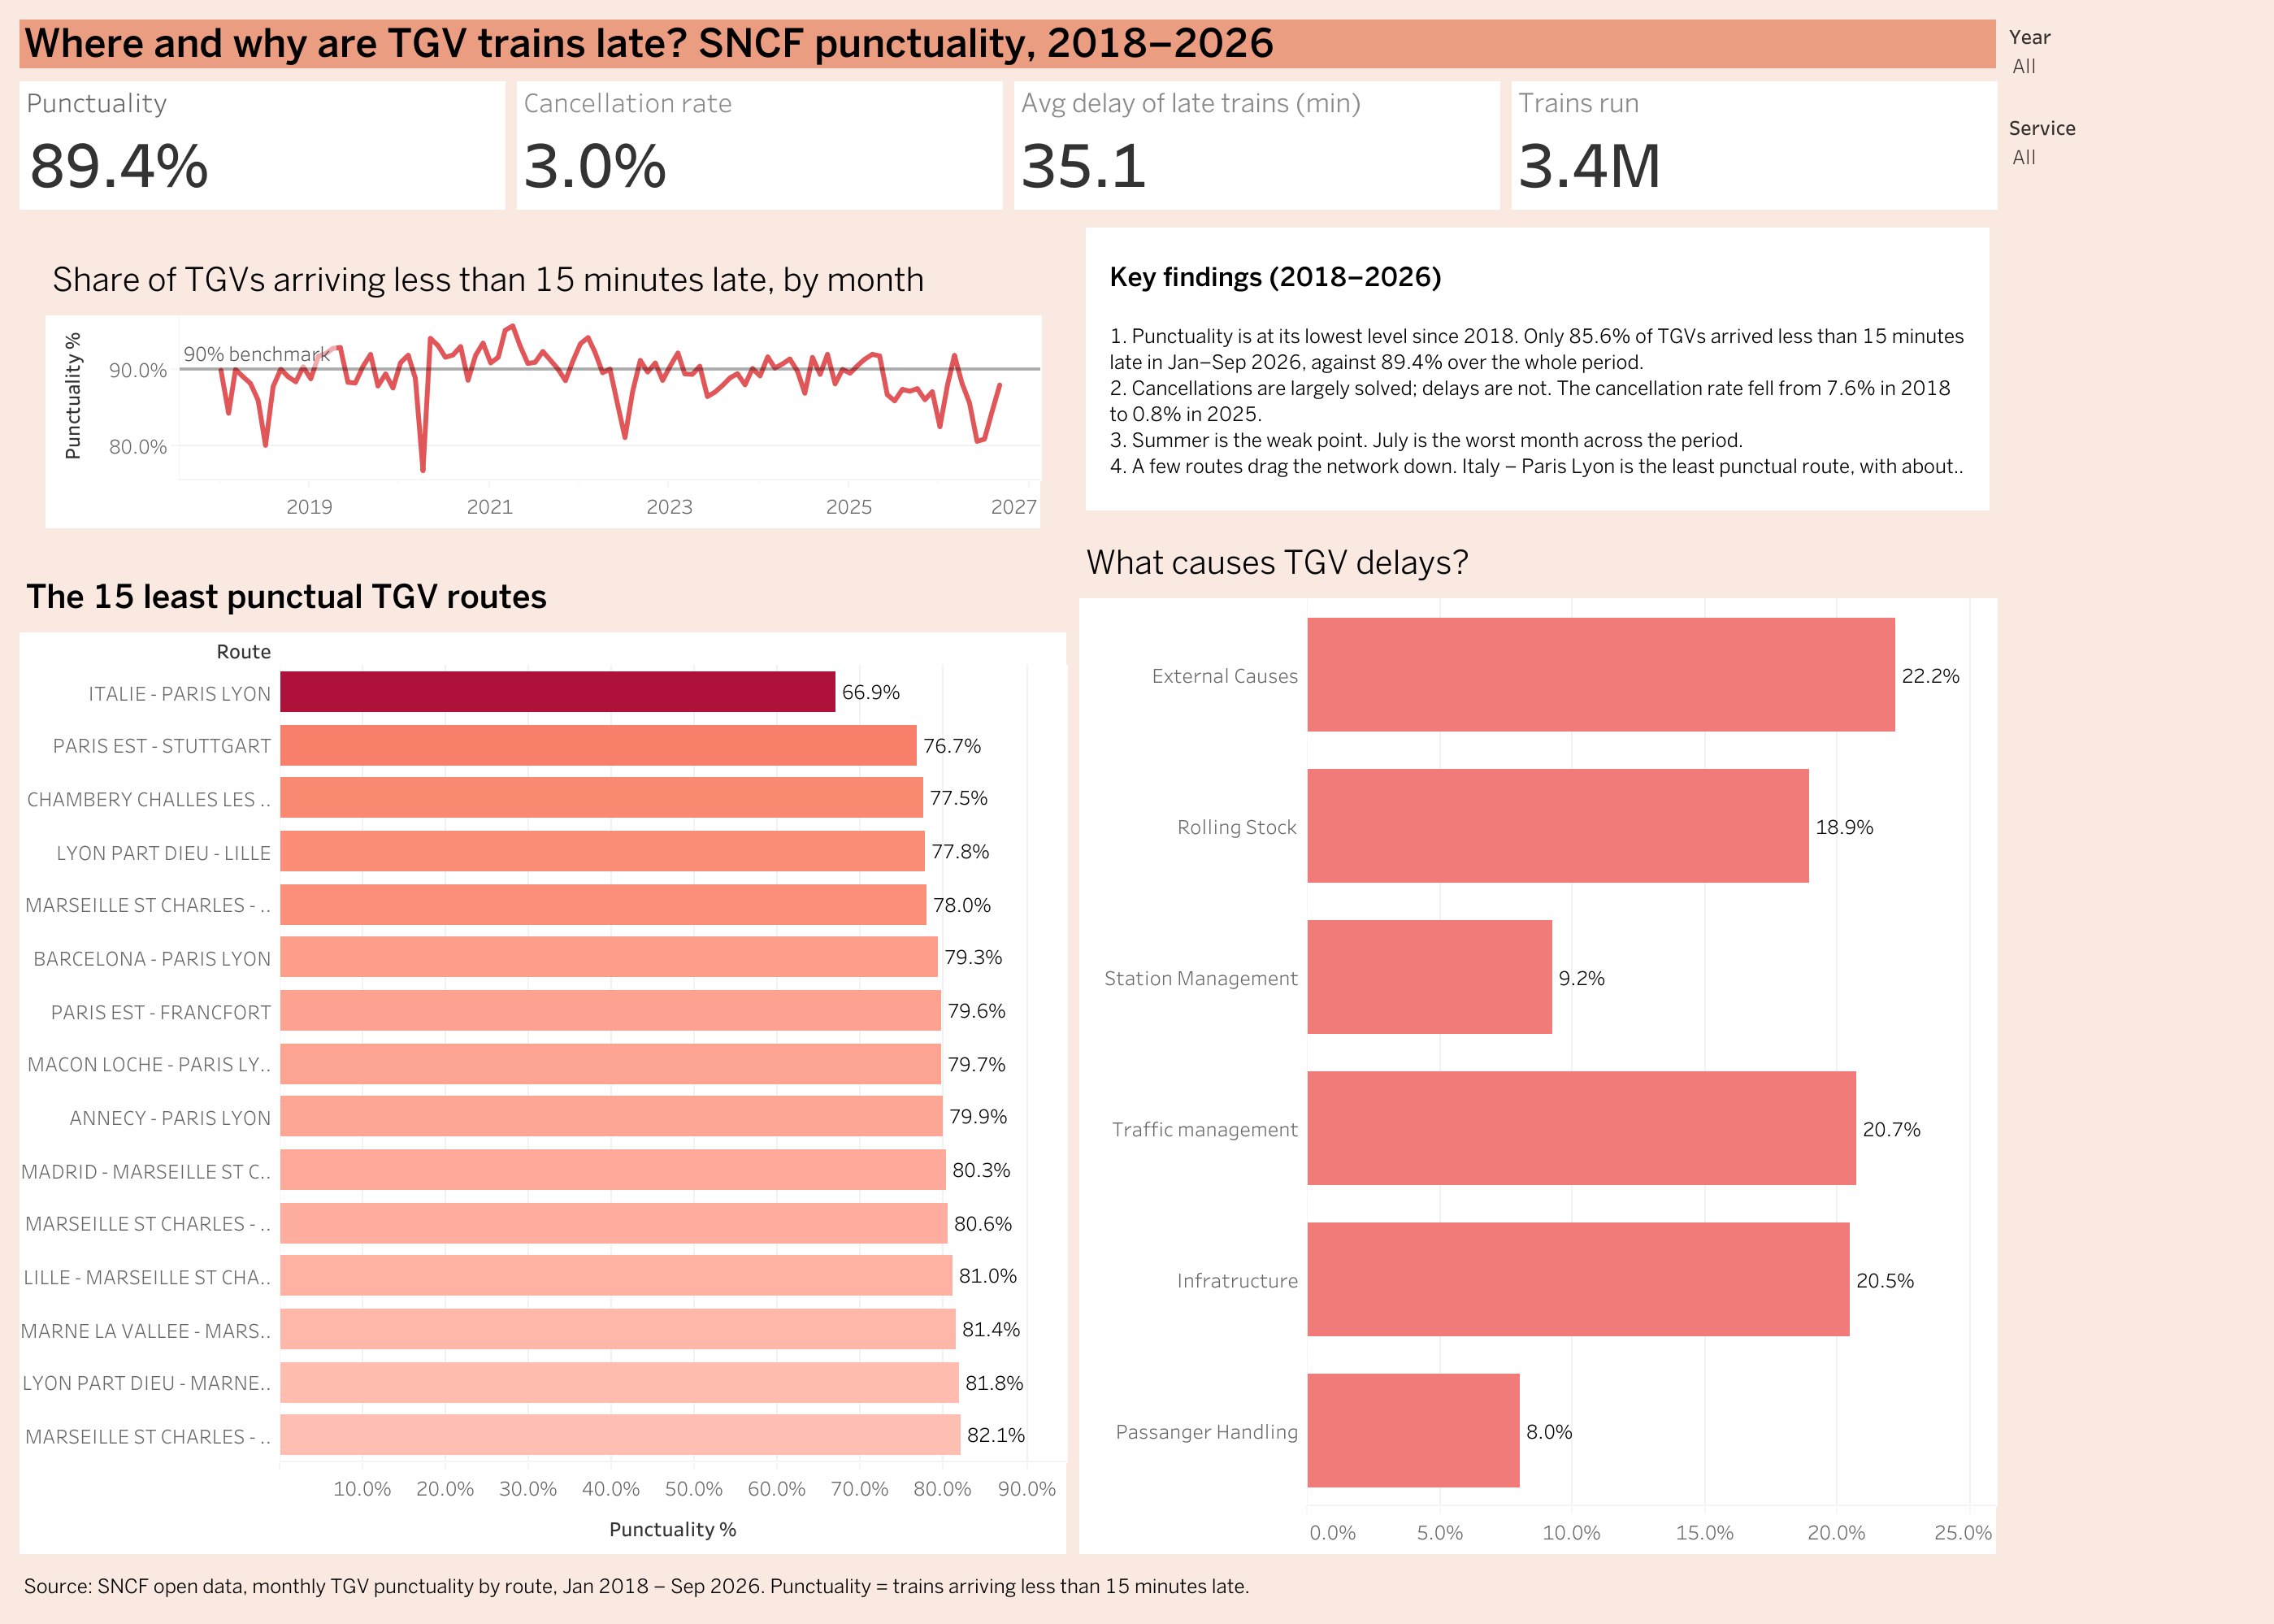

The page's visual inventory and layout, read from the dashboard file:
{"tool":"tableau","page":{"name":"SNCF TGV Punctuality","canvas":[1400,1000],"ordinal":0},"visuals":[{"type":"title","box":[8,8,1224,37]},{"type":"filter","title":"Trend","param":"[federated.0rsh60g1wxe0pw194fkxd149tqq0].[yr:Date:ok]","box":[1232,8,160,52]},{"type":"worksheet","title":"KPI Punctuality","mark":"Automatic","box":[8,45,306,86.8]},{"type":"worksheet","title":"KPI Cancellation","mark":"Automatic","box":[314,45,306,86.8]},{"type":"worksheet","title":"KPI Delay","mark":"Automatic","box":[620,45,306,86.8]},{"type":"worksheet","title":"KPI Trains","mark":"Automatic","box":[926,45,306,86.8]},{"type":"filter","title":"Trend","param":"[federated.0rsh60g1wxe0pw194fkxd149tqq0].[none:Service:nk]","box":[1232,60,160,52]},{"type":"worksheet","title":"Trend","mark":"Automatic","rows":["Calculation_1064383250313217"],"cols":["Date"],"box":[8,131.8,652,213.2]},{"type":"text","box":[660,131.8,572,190.2]},{"type":"worksheet","title":"Causes","mark":"Automatic","box":[660,322,572,638]},{"type":"worksheet","title":"Routes","mark":"Automatic","rows":["Calculation_1064383259095044"],"cols":["Calculation_1064383250313217"],"box":[8,345,652,615]},{"type":"text","box":[8,960,1384,32]}]}

Visuals, with their boxes in screenshot pixels (x1, y1, x2, y2), scaled from the page's 1400x1000 canvas onto the 2274x1624 screenshot:
title: bbox=[13, 13, 2001, 73]
"Trend" filter: bbox=[2001, 13, 2261, 98]
"KPI Punctuality" worksheet: bbox=[13, 73, 510, 214]
"KPI Cancellation" worksheet: bbox=[510, 73, 1007, 214]
"KPI Delay" worksheet: bbox=[1007, 73, 1504, 214]
"KPI Trains" worksheet: bbox=[1504, 73, 2001, 214]
"Trend" filter: bbox=[2001, 98, 2261, 182]
"Trend" worksheet: bbox=[13, 214, 1072, 560]
text: bbox=[1072, 214, 2001, 523]
"Causes" worksheet: bbox=[1072, 523, 2001, 1559]
"Routes" worksheet: bbox=[13, 560, 1072, 1559]
text: bbox=[13, 1559, 2261, 1611]
